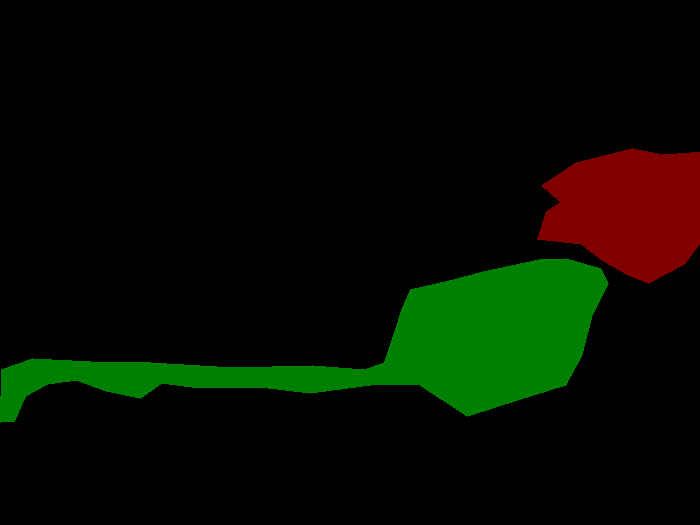fire: (0, 258, 608, 422), (537, 148, 699, 283)
